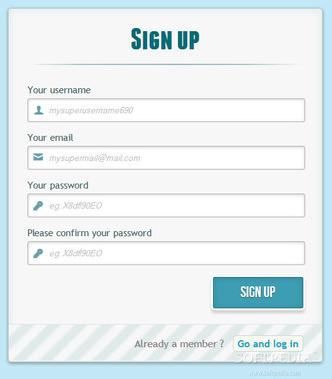button: (212, 276, 305, 309), (233, 335, 304, 354)
field: (26, 97, 306, 123), (25, 239, 305, 265), (27, 193, 306, 218), (27, 145, 305, 170)
field_with_label: (24, 227, 306, 267), (26, 179, 307, 219), (24, 85, 308, 124), (26, 133, 307, 171)
